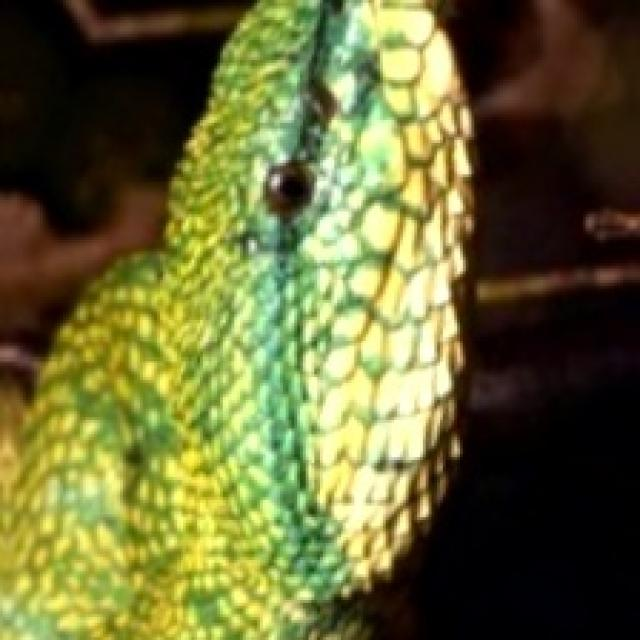north ph temple pitviper: (0, 0, 469, 637)
